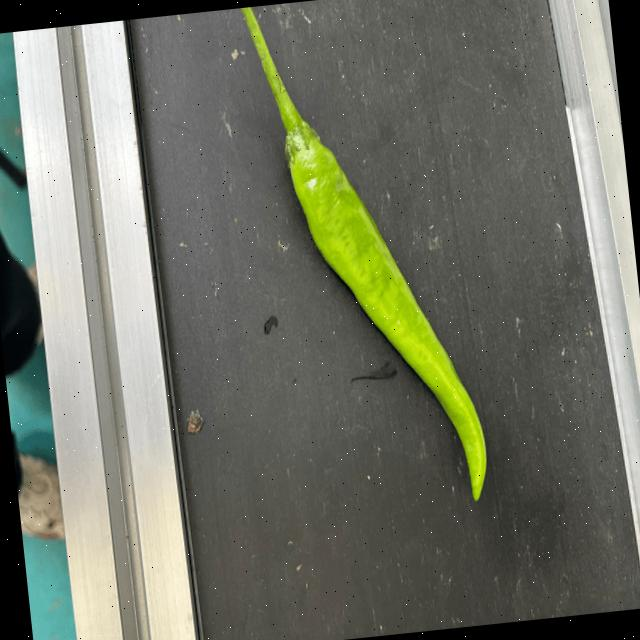chili: (285, 114, 488, 503)
